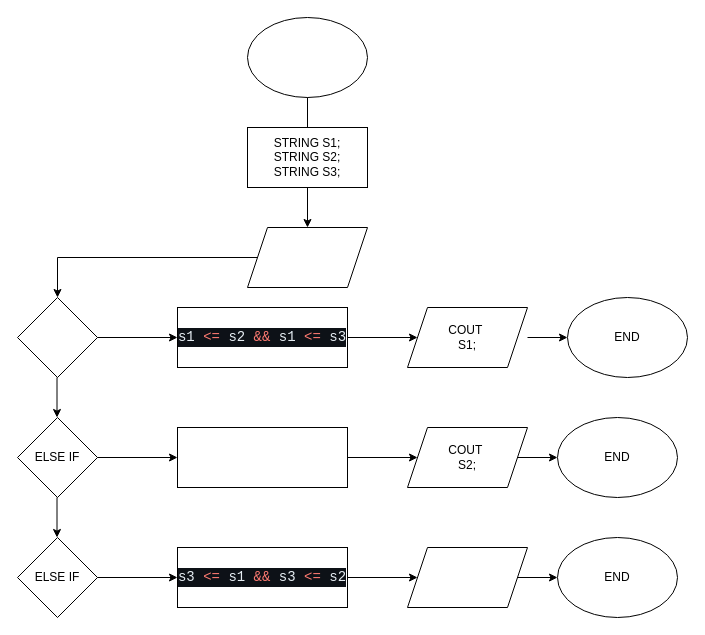
The diagram is 705 pixels wide and 635 high, and some of its shapes have lost their labels. Here are the shapes that lost their labels. From the top down, the centre of each, then its label:
At point (307, 57): "START".
At point (307, 257): "CIN S1; S2; S3;".
At point (57, 337): "IF".
At point (262, 457): "s2 <= s1 && s2 <= s3".
At point (467, 577): "COUT S3;".
